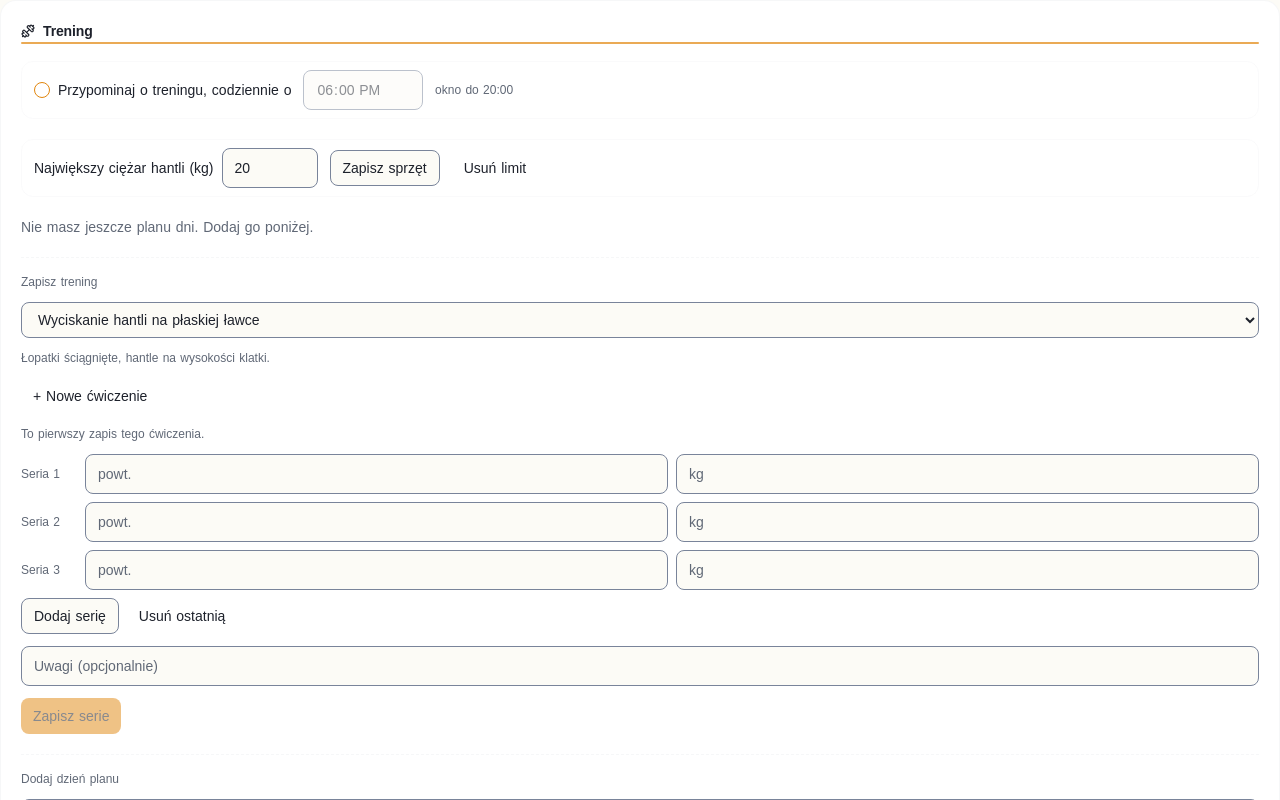
TrainingSection › ciężar ponad hantle pokazuje ostrzeżenie, ale zapis nadal jest możliwy
Type "26" into the field named "Ciężar kg, seria 1" at coordinates (968, 474), box [676,454,1259,494]
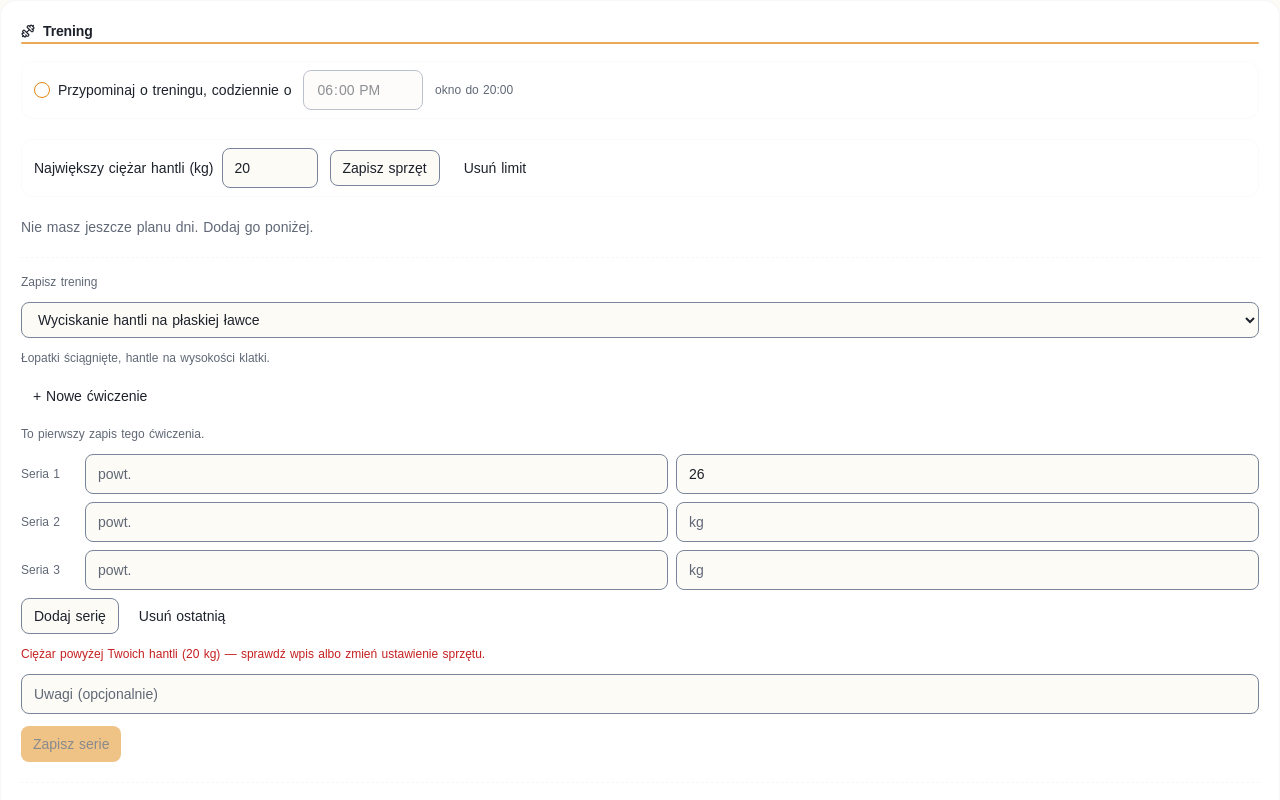
Type "8" into the field named "Powtórki, seria 1" at coordinates (376, 474), box [85,454,668,494]
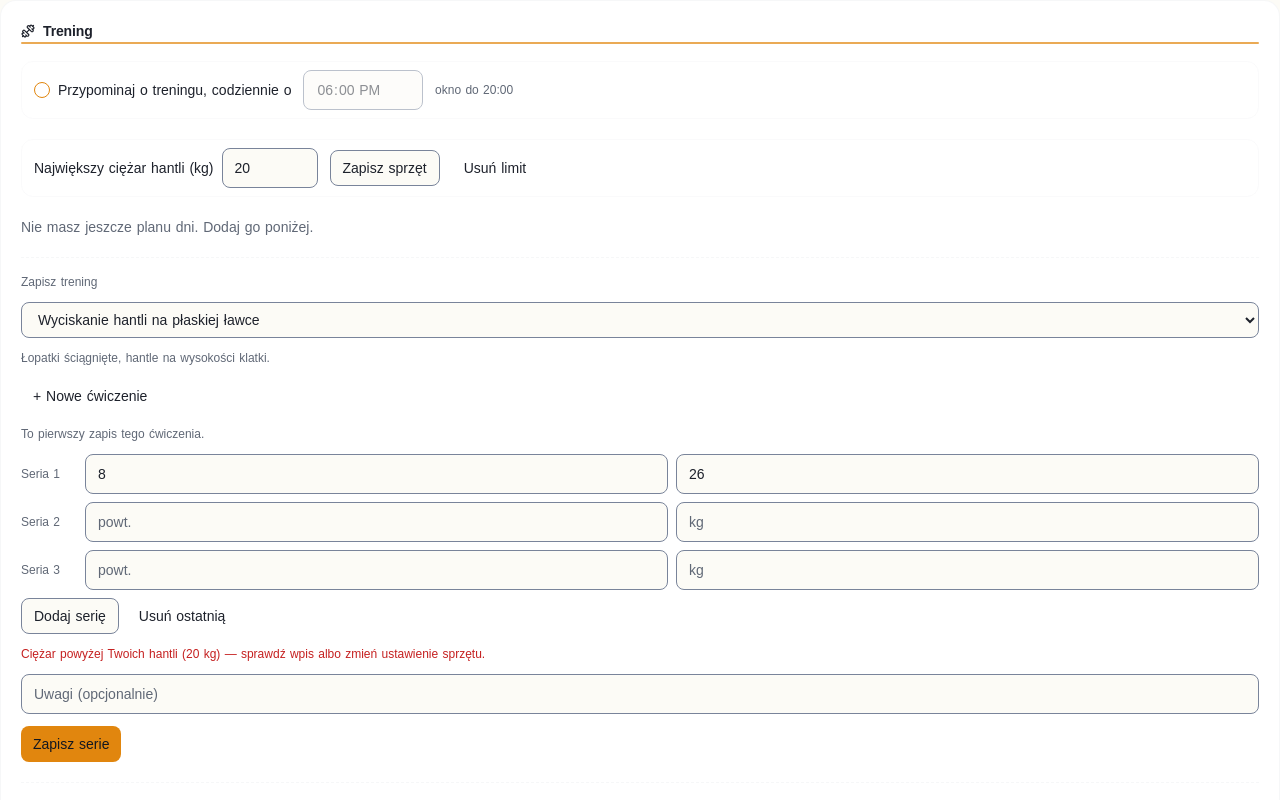
Now the message shows "powyżej Twoich hantli (20 kg)", box [21,647,485,661]
Now the button "Zapisz serie" is enabled, box [21,726,121,762]
